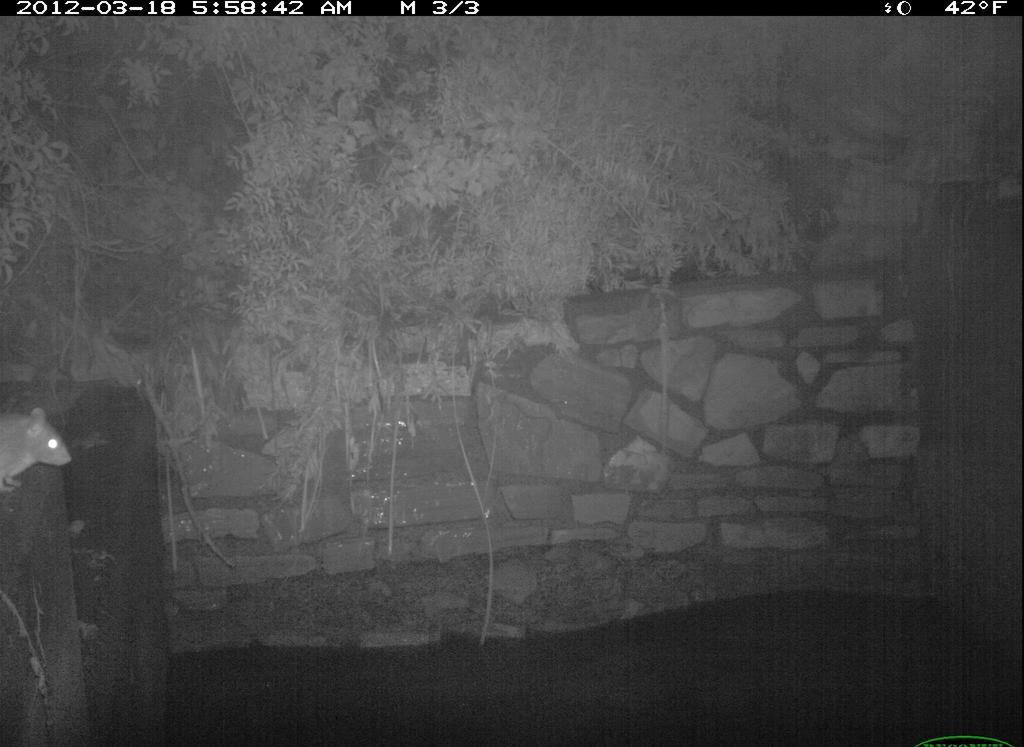rodent: (1, 404, 77, 494)
